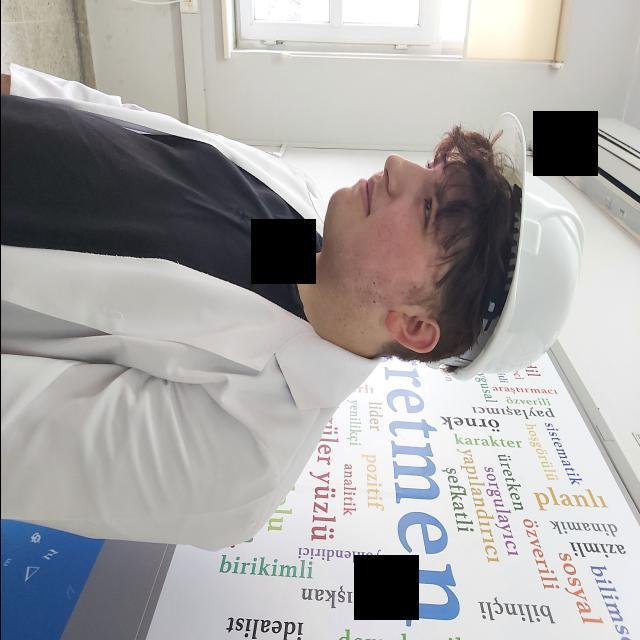helmet: (464, 108, 584, 404)
